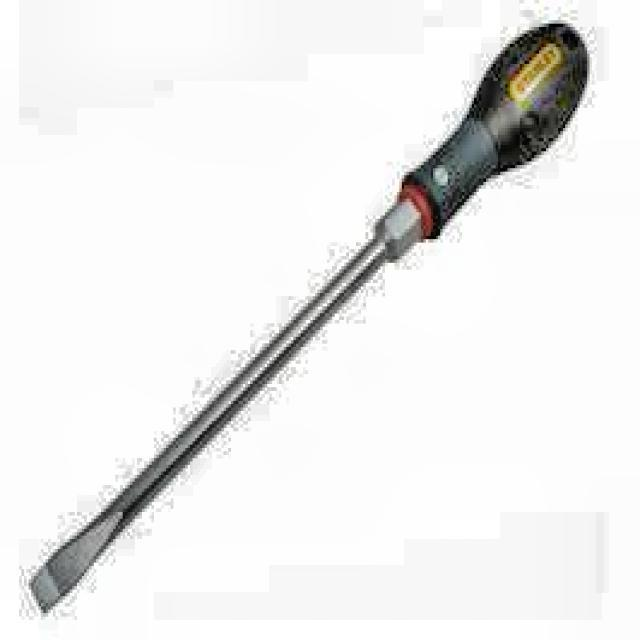screwdriver: (28, 21, 590, 610)
